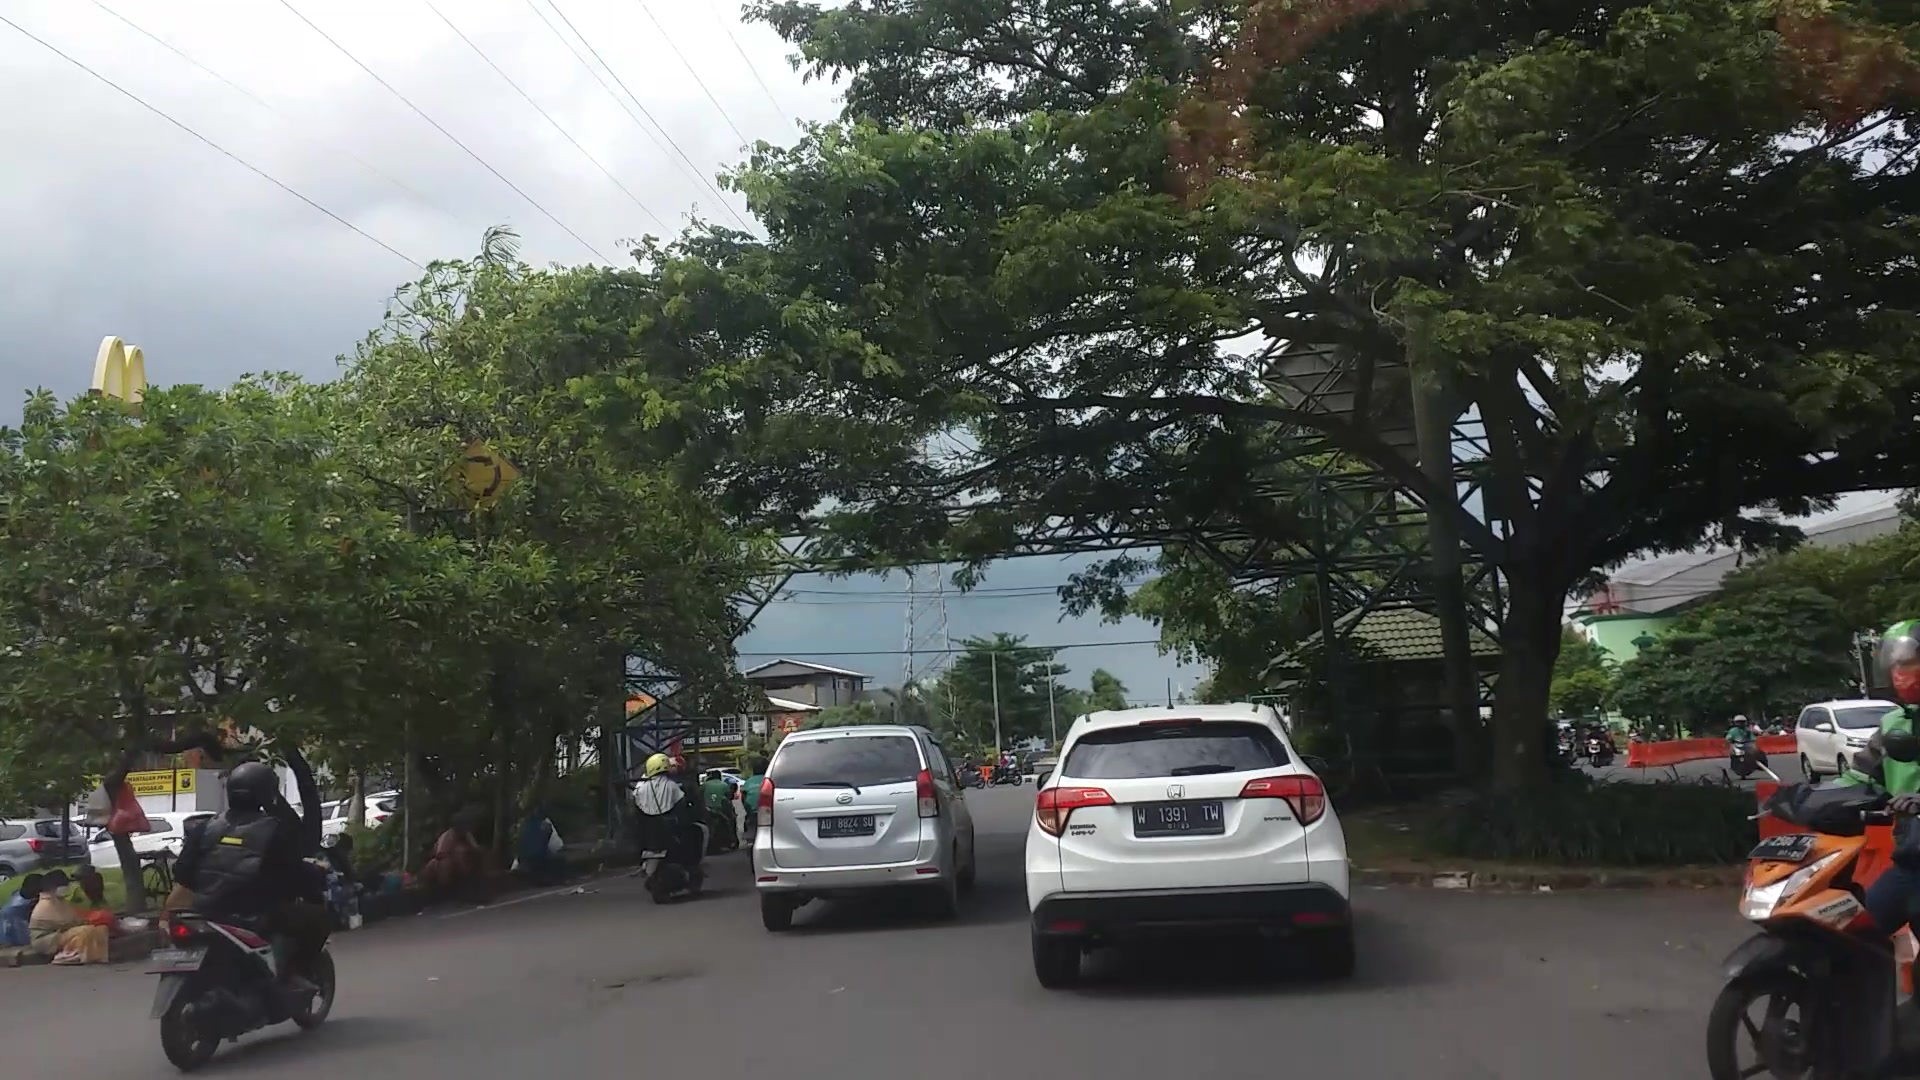plate_positive: (1133, 800, 1225, 835), (819, 815, 876, 833)
